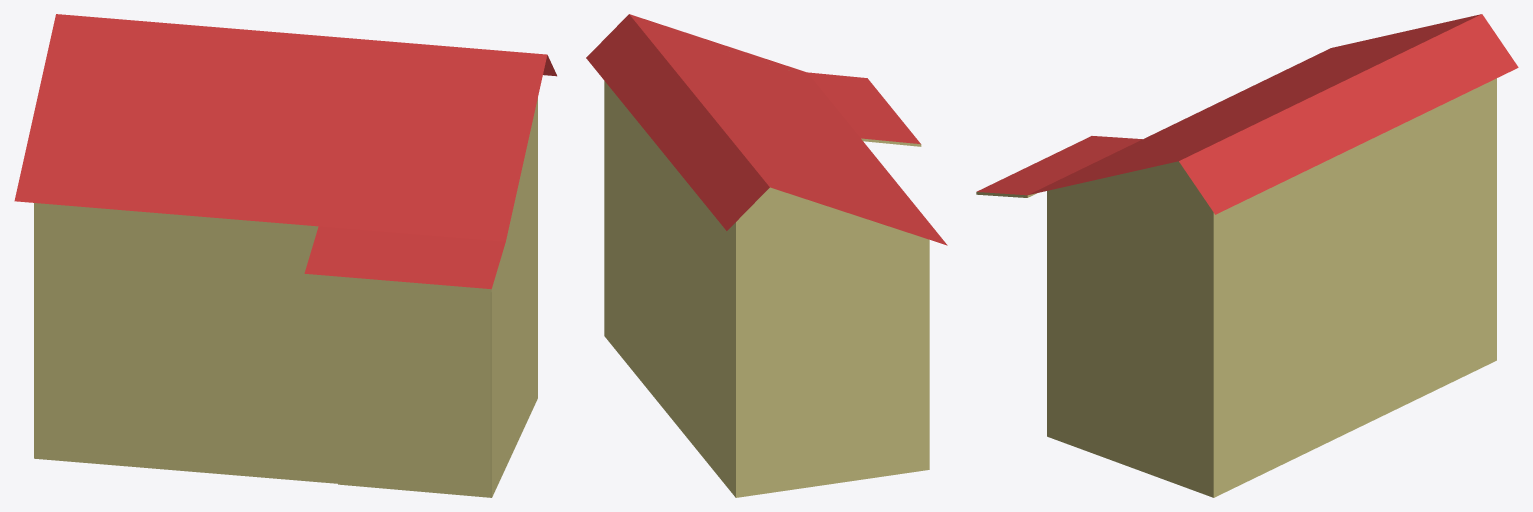
3 views of the same model, side by side, from view 1: azimuth 30°, elevation 25°; view 2: azimuth 150°, elevation 25°; view 3: azimuth 270°, elevation 25° (orthographic). The views are drawn at different scales.
Size of the model in its own units: 16.59 by 17.58 by 11.89.
